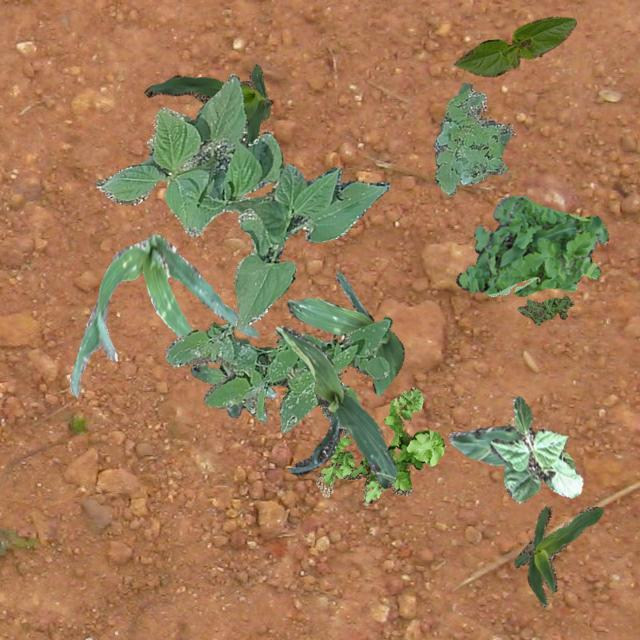crop: (92, 72, 388, 328), (68, 234, 256, 396), (274, 324, 396, 486), (286, 270, 402, 396), (489, 394, 582, 502), (144, 64, 272, 142), (512, 506, 602, 606), (452, 15, 576, 76), (446, 424, 574, 469)
weed: (164, 316, 390, 436), (456, 194, 608, 296), (314, 386, 442, 504), (432, 82, 512, 195), (190, 362, 276, 422), (516, 294, 572, 324)
